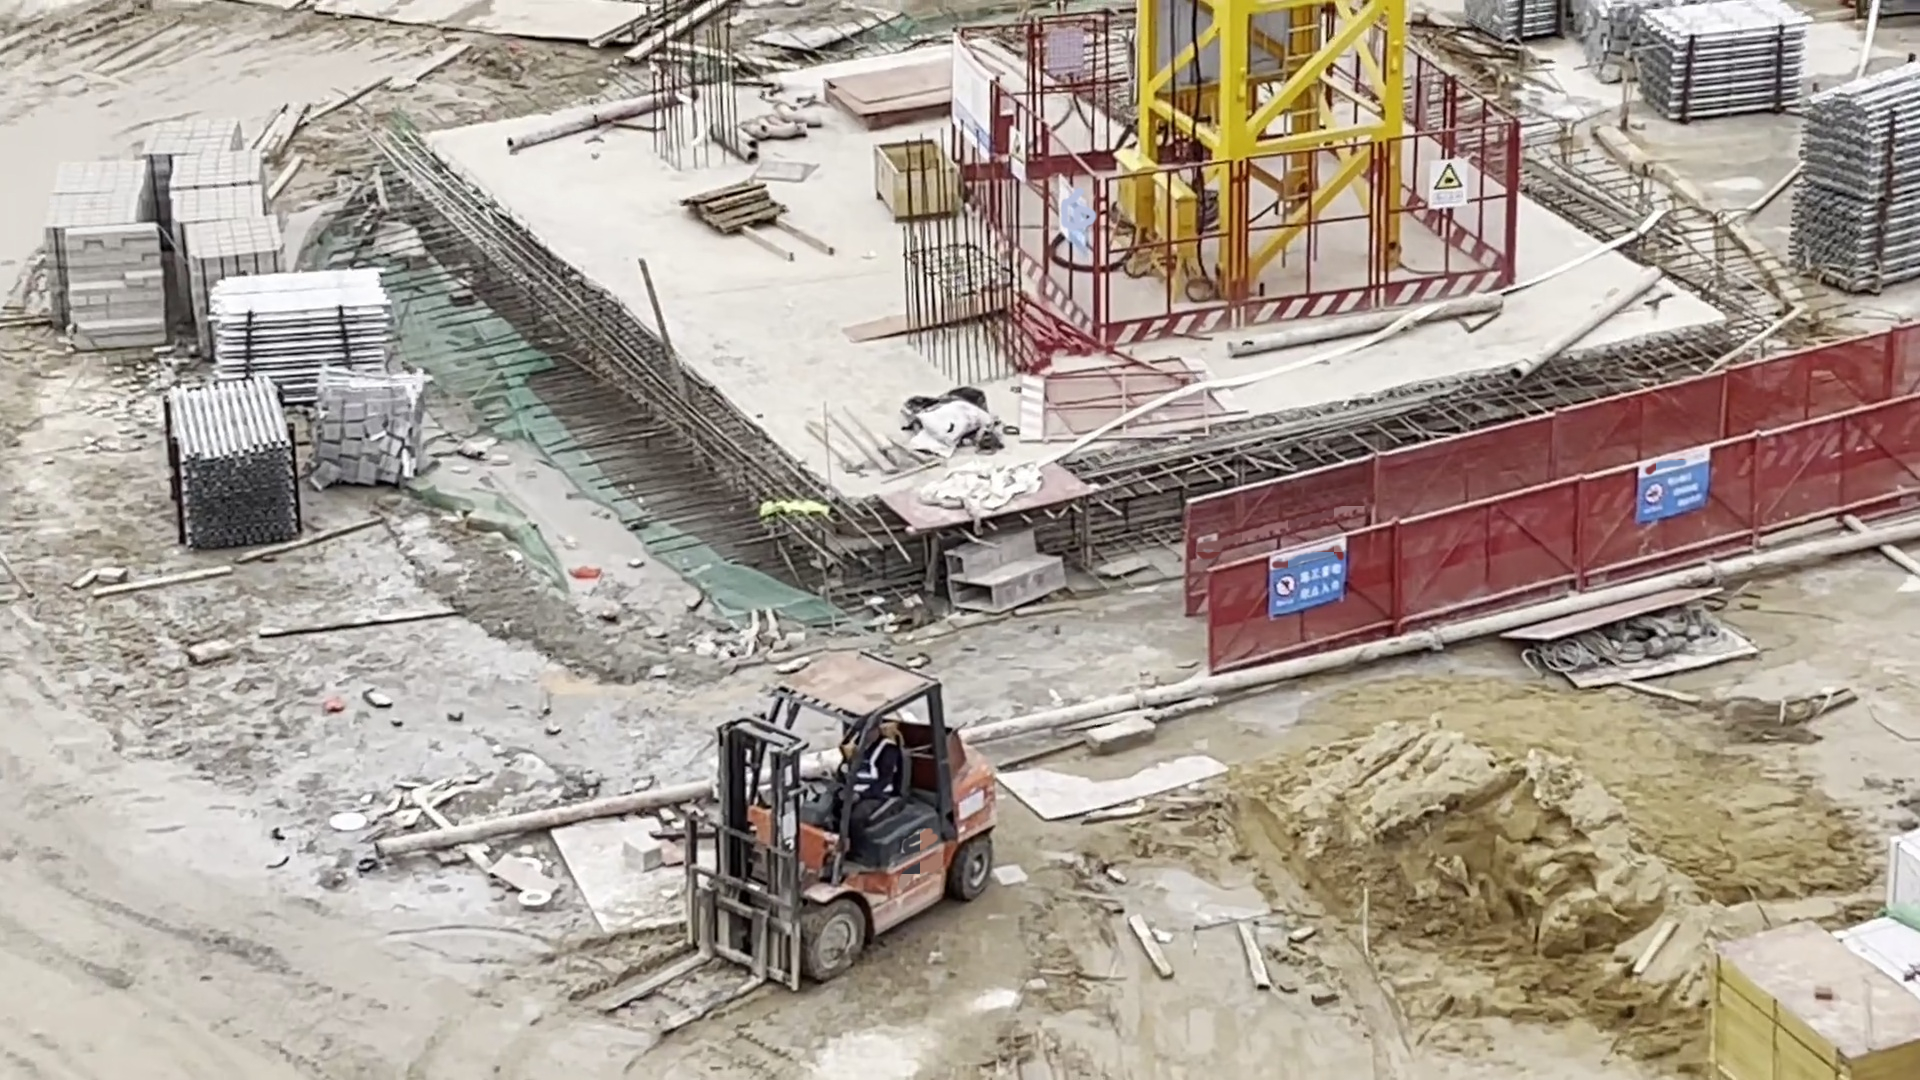board: (1712, 923, 1920, 1080)
brick: (150, 120, 284, 359), (44, 157, 165, 344)
ebox: (1151, 171, 1203, 301), (1109, 148, 1154, 262)
scaffold: (1791, 63, 1920, 299), (164, 377, 302, 554), (211, 268, 386, 404), (1638, 1, 1800, 121), (1460, 1, 1559, 42)
slogan: (1270, 539, 1346, 616), (1636, 448, 1709, 524), (1058, 174, 1089, 258)
